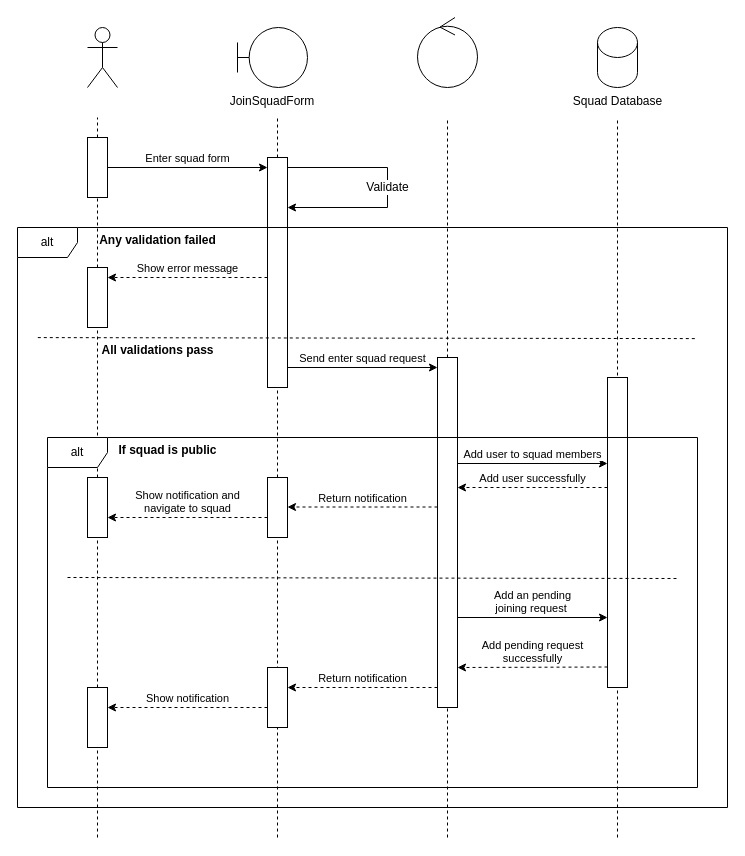
Image size: 745x856. Some labels were removed from this diagram. The shapes that lost their labels are listed below. From the top down, each one's centre as x and y in pixels, then its label:
At [102,57]: "Visitor".
At [447,52]: "JoinSquadController".
